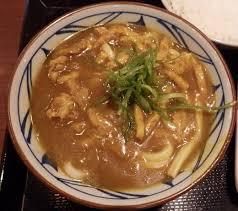curry: (6, 1, 237, 211)
